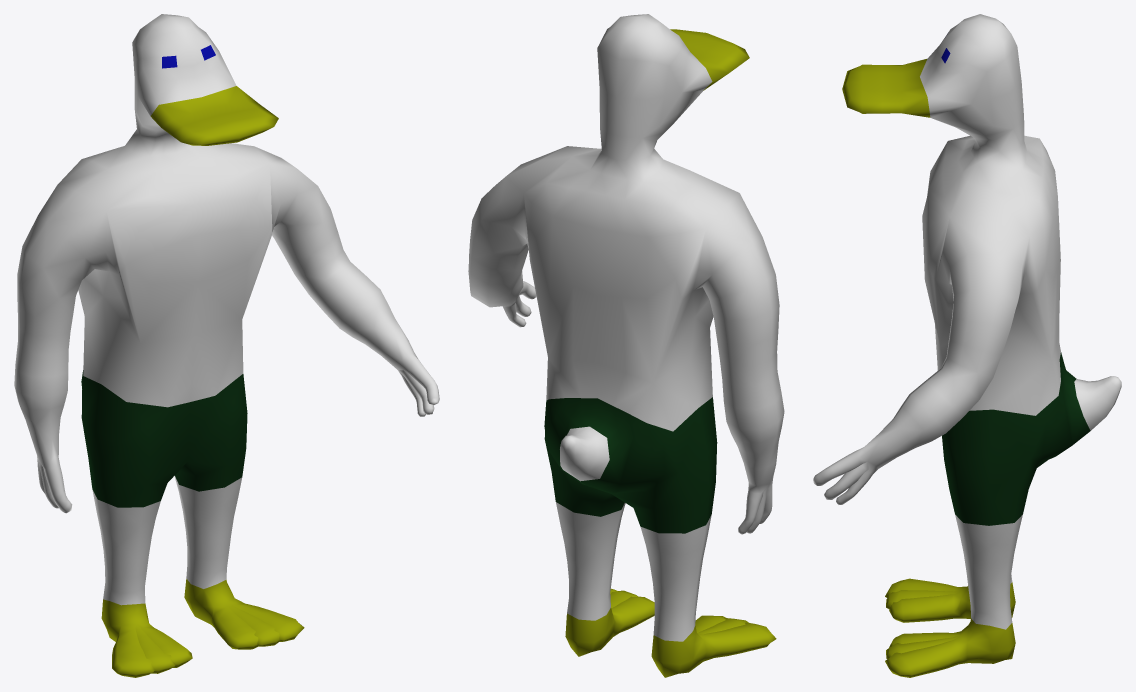
File: canard_000003.obj
3 renders of one model, left to right at view 1: azimuth 30°, elevation 25°; view 2: azimuth 150°, elevation 25°; view 3: azimuth 270°, elevation 25°, orthographic. The views are drawn at different scales.
Visible parts, largest first — view 1: Cube; view 2: Cube; view 3: Cube.
Part boxes in pixels (box(x1,y1,x2,y2)): Cube: box(14, 14, 439, 677); Cube: box(468, 14, 784, 677); Cube: box(813, 14, 1121, 677).
Size of the model in its own units: 1.59 by 2.8 by 1.26.
